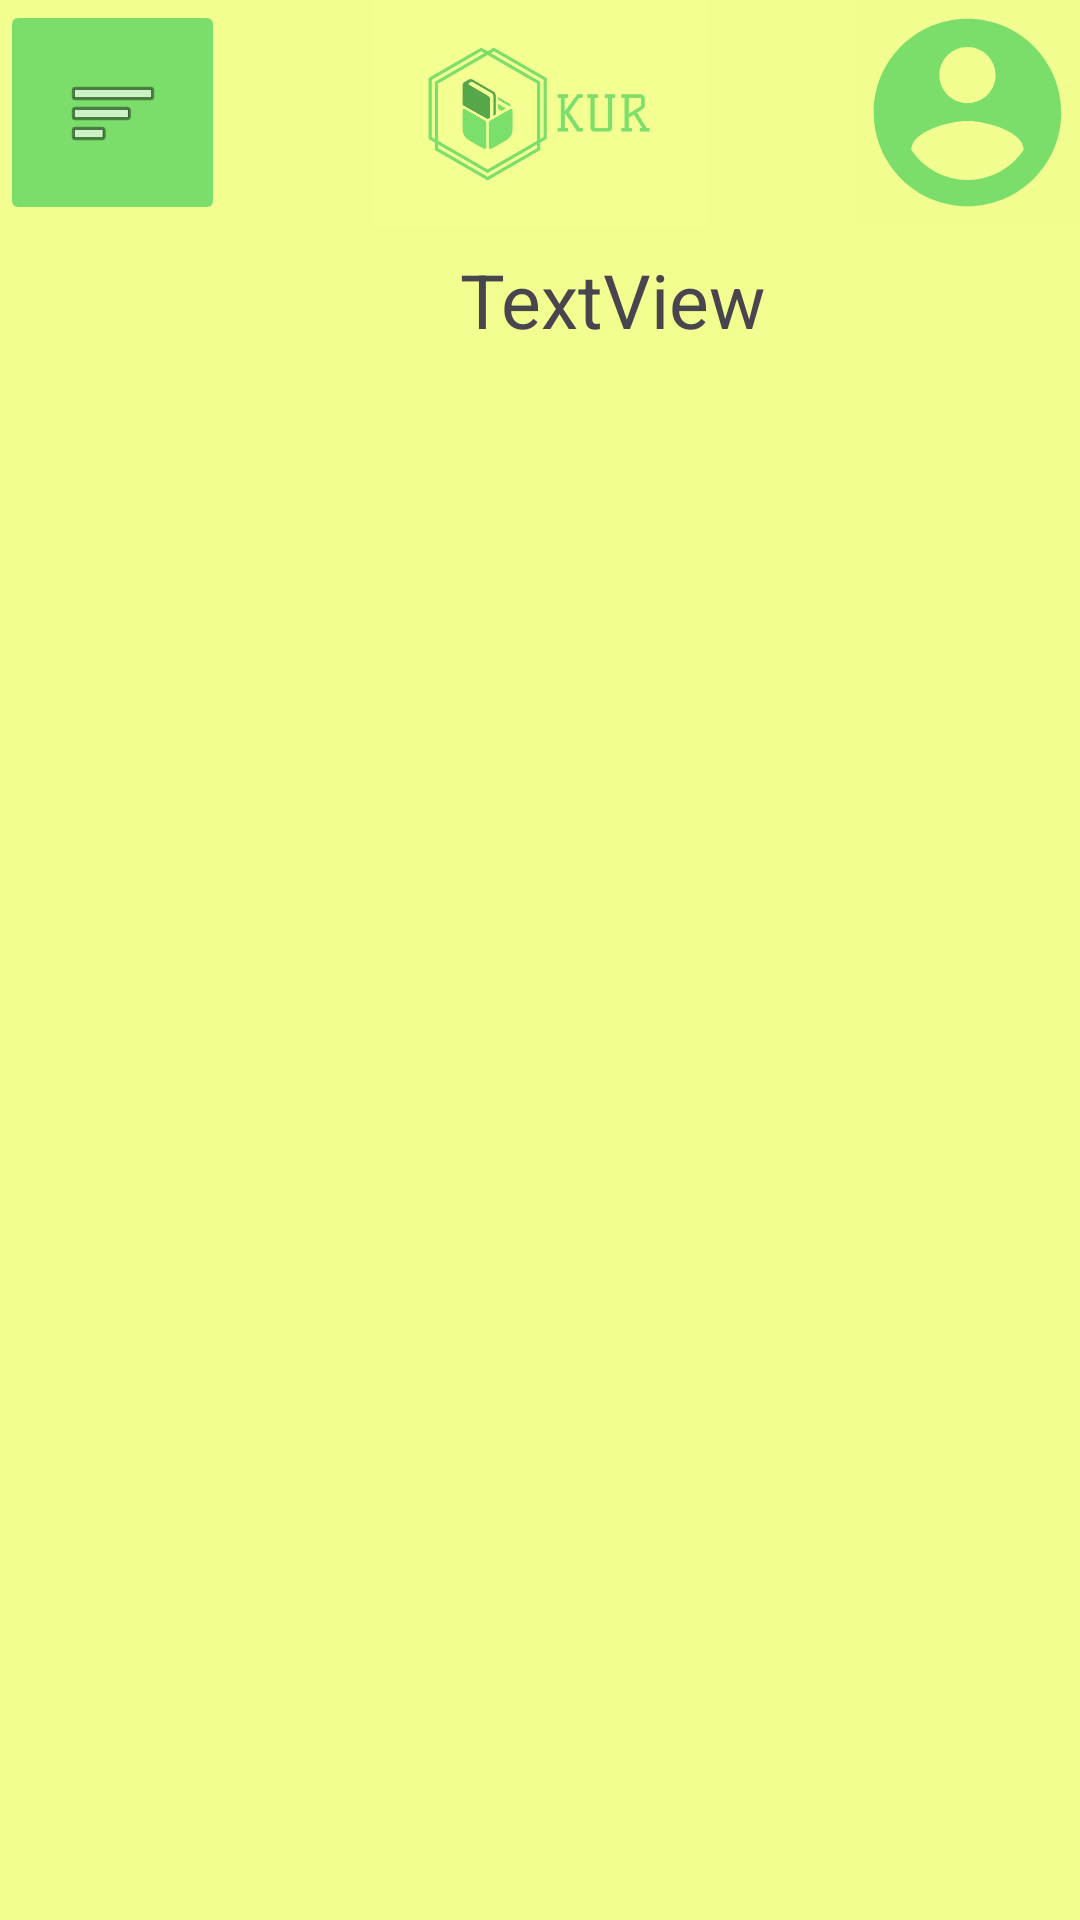

Icons on this 1080w x 1920h Android screen, each with its box as bbox(x1, y1, x2, y2):
account circle: bbox(873, 18, 1062, 207)
sort by size: bbox(12, 18, 213, 207)
